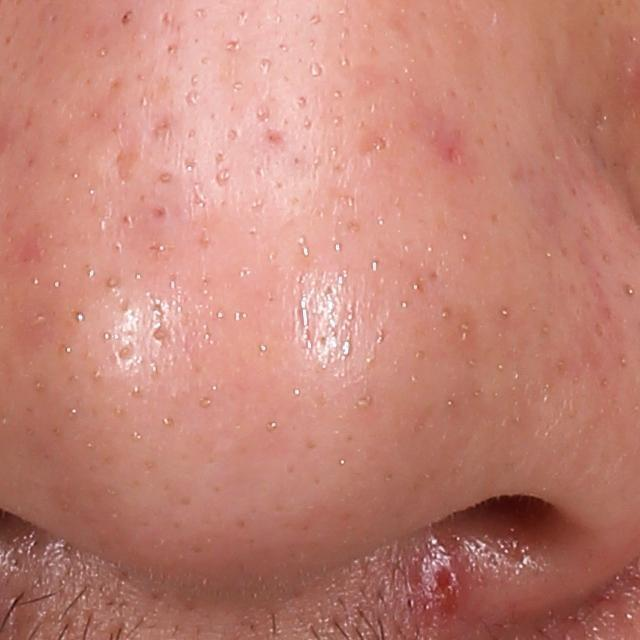atrophic_scar: (92, 128, 148, 185), (354, 125, 390, 159)
comedo: (117, 5, 135, 29)
papule: (414, 545, 469, 617)
